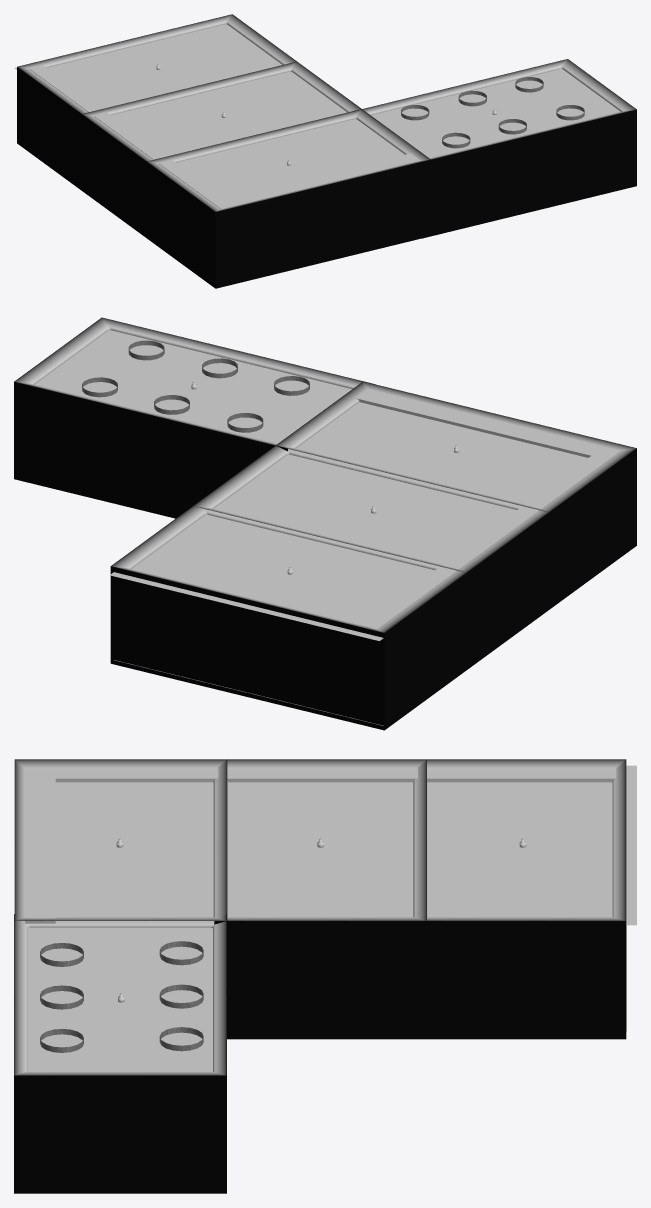
Rendered from ScenarioLevel2.fbx.
3 views of the same model, one above another, from view 1: azimuth 30°, elevation 25°; view 2: azimuth 150°, elevation 25°; view 3: azimuth 270°, elevation 25° (orthographic). The views are drawn at different scales.
Visible parts, largest first — view 1: pared3.001, pared2.001, piso1.003, piso1, piso1.001, piso1.002, pared5.001, pared1.001, Cube.019; view 2: pared1.001, pared2.001, piso1.001, piso1, piso1.003, piso1.002, pared3.001, pared5.001, Cube.019; view 3: pared2.001, pared1.001, pared5.001, piso1.001, piso1, piso1.003, piso1.002, Cube.019, pared3.001.
Boxes of the visible parts, box(x1,y1,x2,y2) form: pared3.001: box(146, 109, 430, 288); pared2.001: box(352, 59, 636, 238); piso1.003: box(371, 69, 620, 158); piso1: box(111, 71, 347, 156); piso1.001: box(14, 24, 281, 108); piso1.002: box(176, 119, 404, 198); pared5.001: box(81, 61, 361, 237); pared1.001: box(17, 14, 300, 190); Cube.019: box(29, 65, 420, 209); pared1.001: box(110, 502, 466, 730); pared2.001: box(14, 317, 374, 518); piso1.001: box(110, 514, 434, 640); piso1: box(204, 454, 516, 567); piso1.003: box(35, 330, 351, 443); piso1.002: box(288, 402, 587, 507); pared3.001: box(275, 381, 636, 609); pared5.001: box(193, 446, 548, 669); Cube.019: box(355, 389, 620, 629); pared2.001: box(14, 914, 226, 1193); pared1.001: box(413, 759, 626, 1039); pared5.001: box(214, 759, 426, 1039); piso1.001: box(427, 765, 636, 925); piso1: box(228, 782, 413, 917); piso1.003: box(27, 927, 212, 1071); piso1.002: box(22, 782, 214, 923); Cube.019: box(25, 768, 616, 923); pared3.001: box(14, 759, 227, 920).
Bounding box in the file's own units: 1861 × 326 × 1548.
